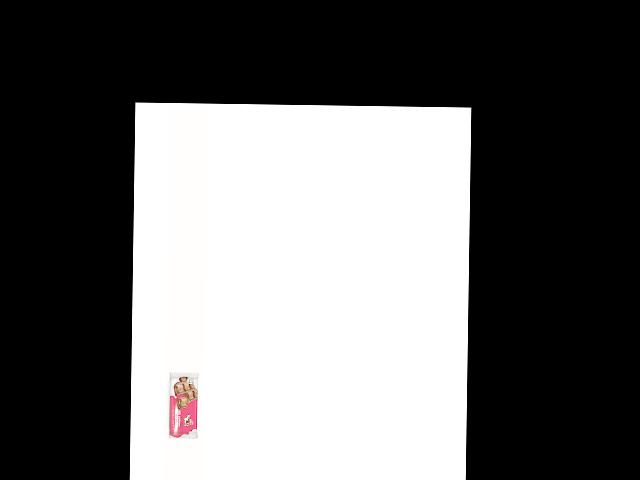chocolate: (152, 370, 194, 449)
